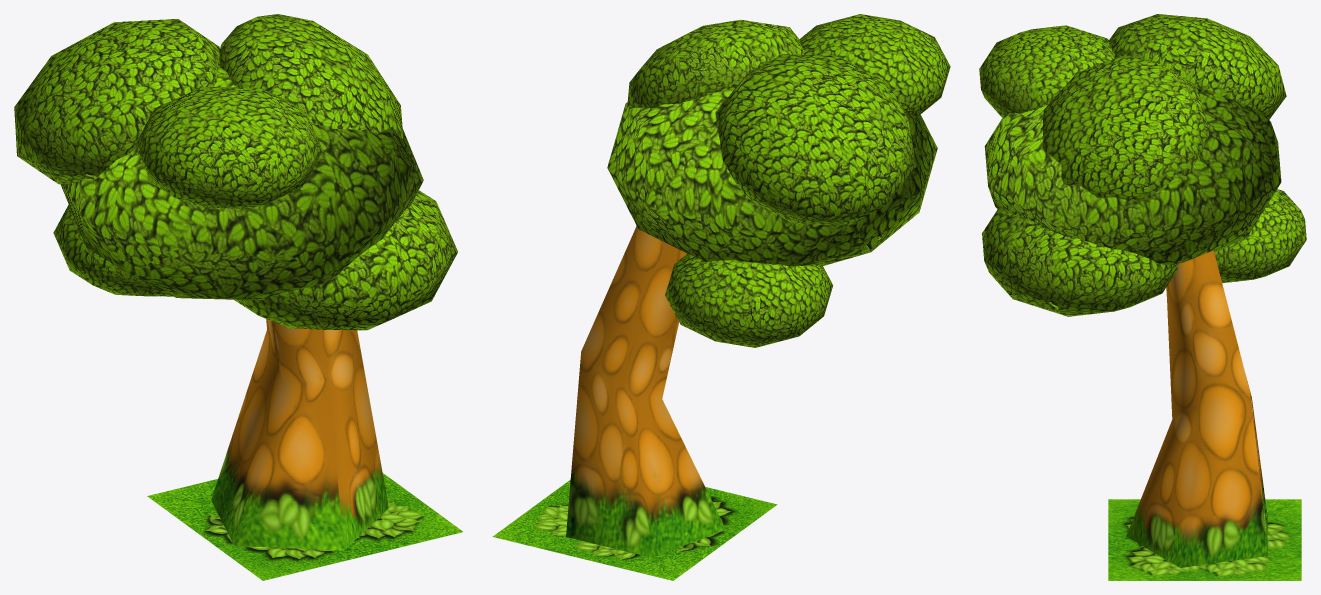
The model's file is HD_DA_Trees_Big_003.FBX.
The picture shows the model from 3 angles, left to right: view 1: azimuth 30°, elevation 25°; view 2: azimuth 150°, elevation 25°; view 3: azimuth 270°, elevation 25°; orthographic projection. The views are drawn at different scales.
Visible parts, largest first — view 1: HD_DA_Trees_Big_002; view 2: HD_DA_Trees_Big_002; view 3: HD_DA_Trees_Big_002.
Boxes of the visible parts, box(x1,y1,x2,y2) form: HD_DA_Trees_Big_002: box(14, 14, 462, 580); HD_DA_Trees_Big_002: box(492, 14, 950, 580); HD_DA_Trees_Big_002: box(979, 14, 1306, 580).
Size of the model in its own units: 193 by 255 by 169.
3 materials, 3 textured.
